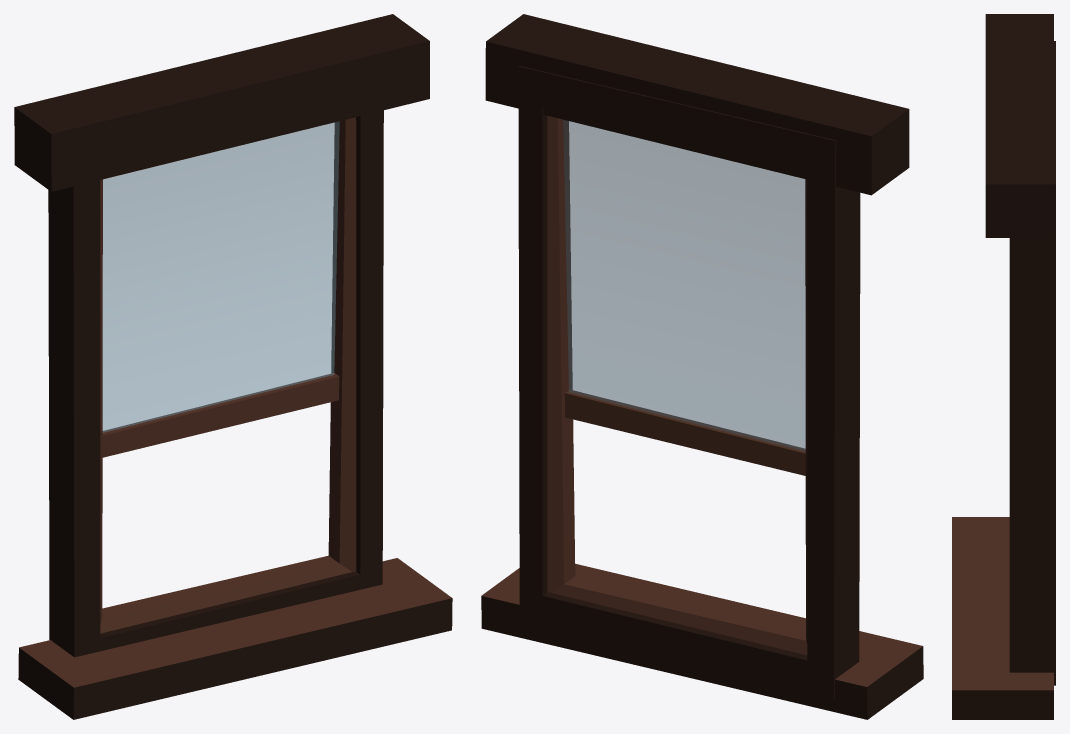
File: Window 2x4 V2 B Open.glb
3 renders of one model, left to right at view 1: azimuth 30°, elevation 25°; view 2: azimuth 150°, elevation 25°; view 3: azimuth 270°, elevation 25°, orthographic. The views are drawn at different scales.
Visible parts, largest first — view 1: Window 2x4 V2 B Open; view 2: Window 2x4 V2 B Open; view 3: Window 2x4 V2 B Open.
Part boxes in pixels (box(x1,y1,x2,y2)): Window 2x4 V2 B Open: box(14, 14, 452, 719); Window 2x4 V2 B Open: box(481, 14, 923, 719); Window 2x4 V2 B Open: box(952, 14, 1055, 719).
Size of the model in its own units: 1.42 by 2.05 by 0.3601.
2 materials, 2 textured.
